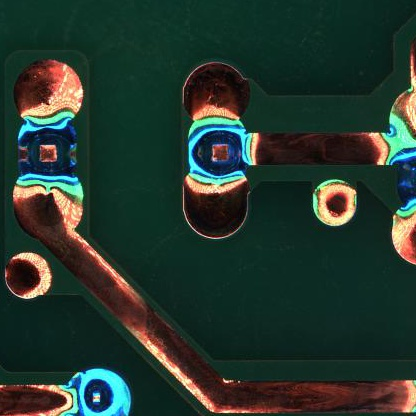spot: (15, 118, 79, 183), (187, 117, 247, 178), (71, 367, 132, 416)
